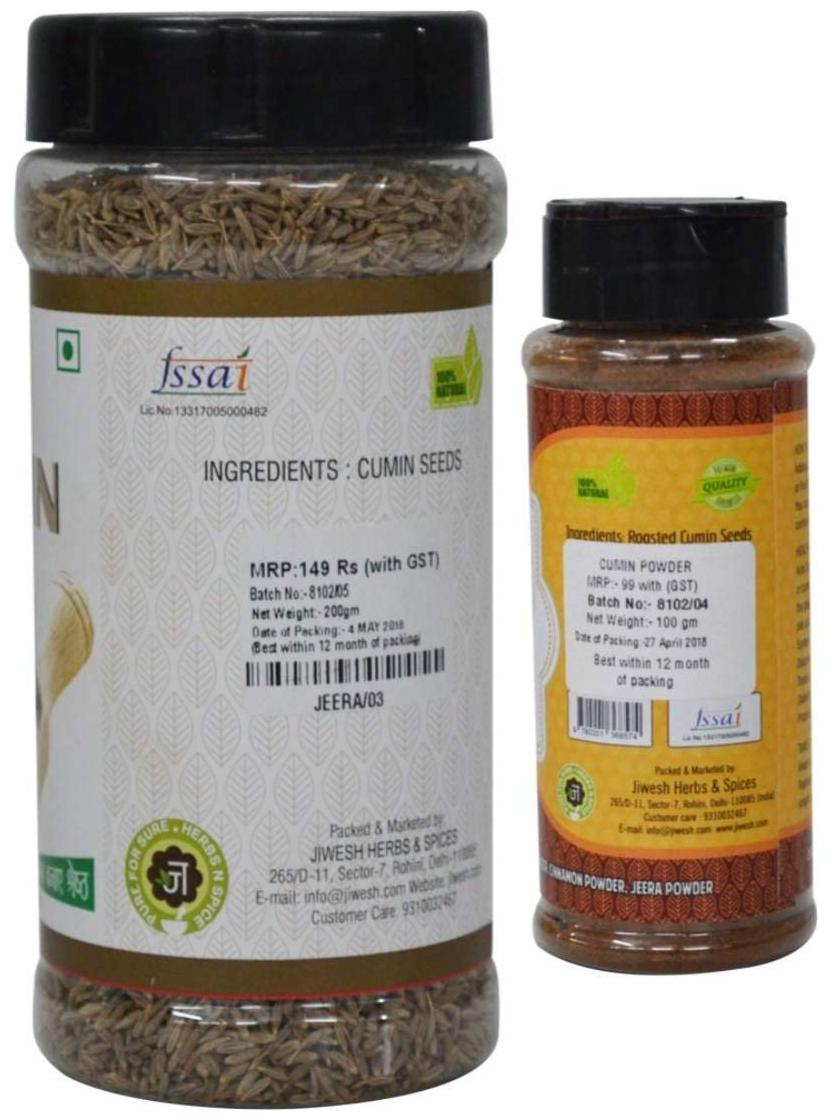fssai: (151, 347, 253, 395)
